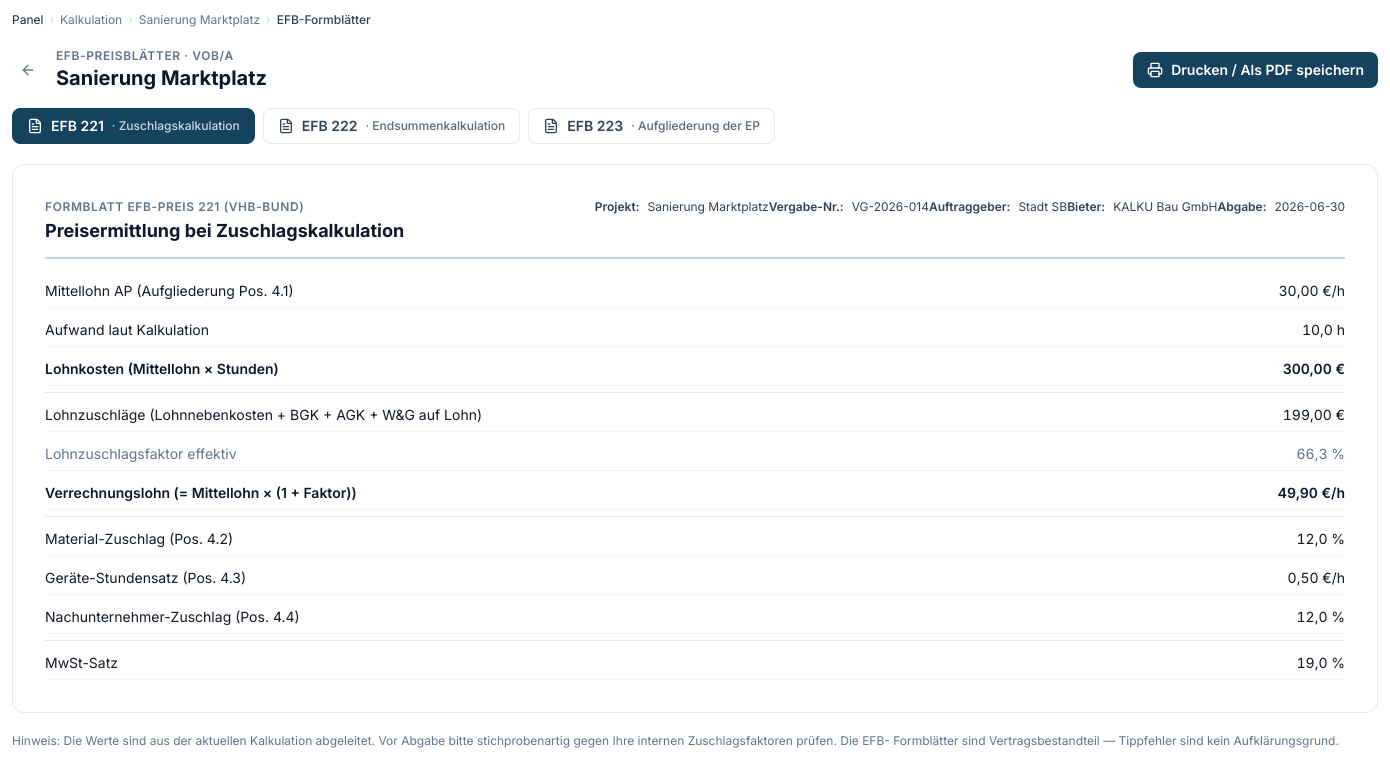
Test: ProjectEfb — tab strip › clicking EFB 222 switches the form (only ONE form visible)
Expected: the text "Mittellohn AP (Aufgliederung Pos. 4.1)" is shown, [45,281,294,301]
Click the button "EFB 222 · Endsummenkalkulation": (392, 126) [263,108,520,144]
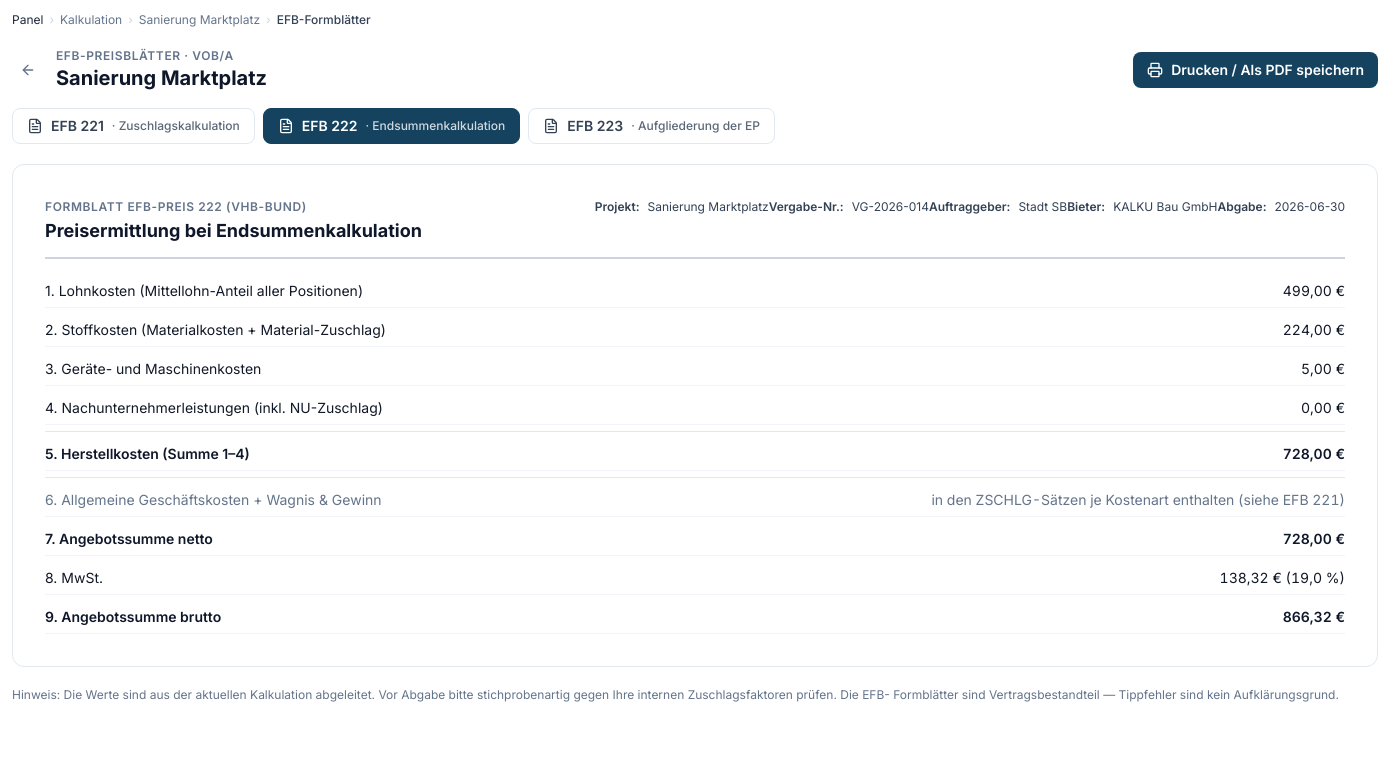
Expected: the text "5. Herstellkosten (Summe 1–4)" is shown, [45,444,250,464]
Expected: the text "Mittellohn AP" is gone
